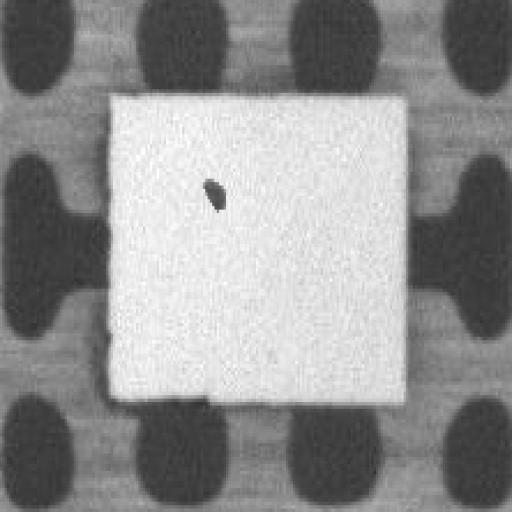DIE_INK: (296, 116, 340, 146)
